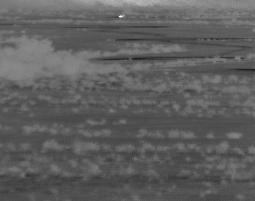Target: (120, 16, 123, 18)
